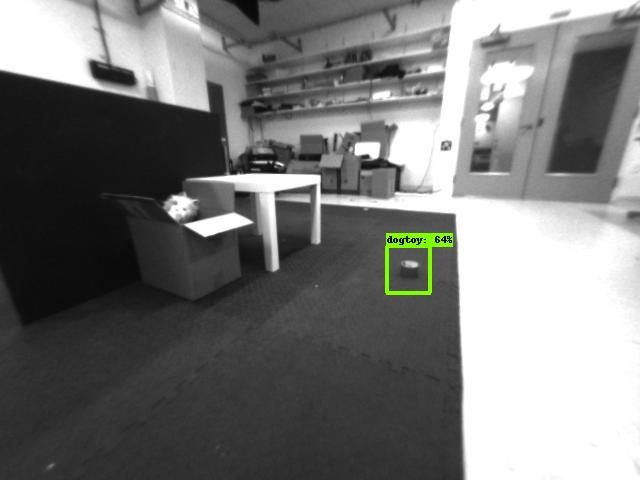dogtoy: (384, 244, 424, 287)
